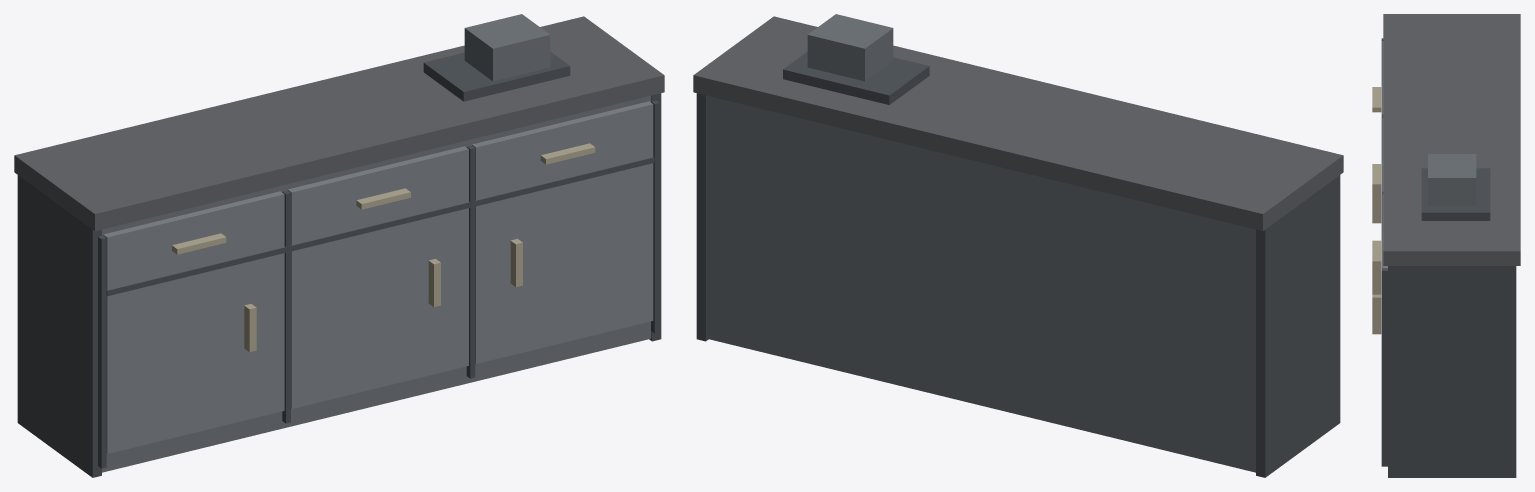
File: staff_room_right_storage_cabinet.glb
3 views of the same model, side by side, from view 1: azimuth 30°, elevation 25°; view 2: azimuth 150°, elevation 25°; view 3: azimuth 270°, elevation 25° (orthographic). The views are drawn at different scales.
Visible parts, largest first — view 1: TopSlab, DoorFace_1, DoorFace_3, DoorFace_2, LeftSide, CabinetBody, DrawerFace_1, DrawerFace_3, DrawerFace_2, TopSmallBox, TrimH, TopTray (+5 smaller); view 2: CabinetBody, TopSlab, LeftSide, TopSmallBox, TopTray, RightSide; view 3: TopSlab, RightSide, TopSmallBox, TopTray, TrimV_1.35, DoorHandle_3, DoorHandle_1, DoorHandle_2, DrawerHandle_1, DrawerHandle_2, DrawerHandle_3, TrimH.
Boxes of the visible parts, x1,y1,x2,y2 form: TopSlab: [14, 16, 664, 231]; DoorFace_1: [106, 246, 284, 453]; DoorFace_3: [475, 156, 653, 363]; DoorFace_2: [291, 201, 468, 408]; LeftSide: [17, 175, 101, 477]; CabinetBody: [102, 95, 651, 472]; DrawerFace_1: [103, 191, 284, 288]; DrawerFace_3: [472, 101, 653, 198]; DrawerFace_2: [287, 146, 468, 243]; TopSmallBox: [464, 14, 550, 81]; TrimH: [106, 157, 654, 296]; TopTray: [423, 51, 570, 101]; CabinetBody: [706, 95, 1255, 472]; TopSlab: [693, 16, 1343, 231]; LeftSide: [1256, 175, 1340, 477]; TopSmallBox: [807, 14, 893, 81]; TopTray: [783, 51, 929, 104]; RightSide: [696, 93, 708, 341]; TopSlab: [1383, 14, 1520, 265]; RightSide: [1388, 266, 1516, 477]; TopSmallBox: [1428, 154, 1476, 205]; TopTray: [1421, 168, 1490, 220]; TrimV_1.35: [1381, 268, 1387, 466]; DoorHandle_3: [1372, 294, 1381, 334]; DoorHandle_1: [1372, 189, 1381, 223]; DoorHandle_2: [1372, 266, 1381, 294]; DrawerHandle_1: [1372, 87, 1381, 112]; DrawerHandle_2: [1372, 164, 1381, 189]; DrawerHandle_3: [1372, 240, 1381, 265]; TrimH: [1381, 86, 1382, 268].
Size of the model in its own units: 2.78 by 1.44 by 0.7355.
